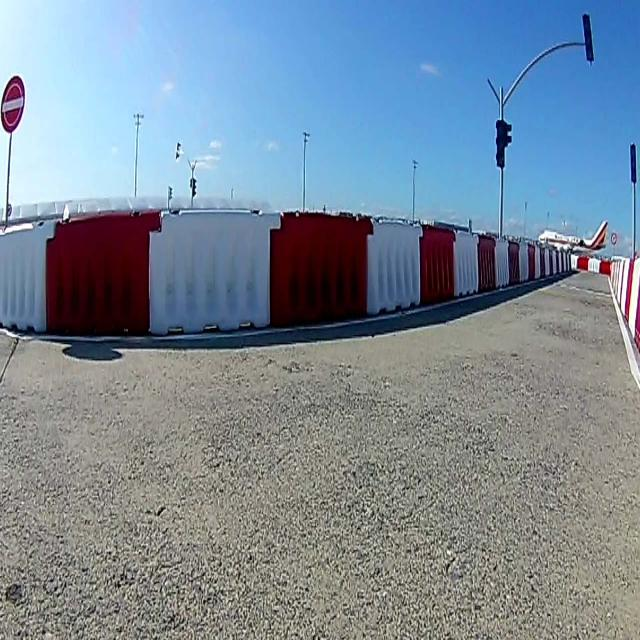girisyok: (1, 75, 25, 134)
